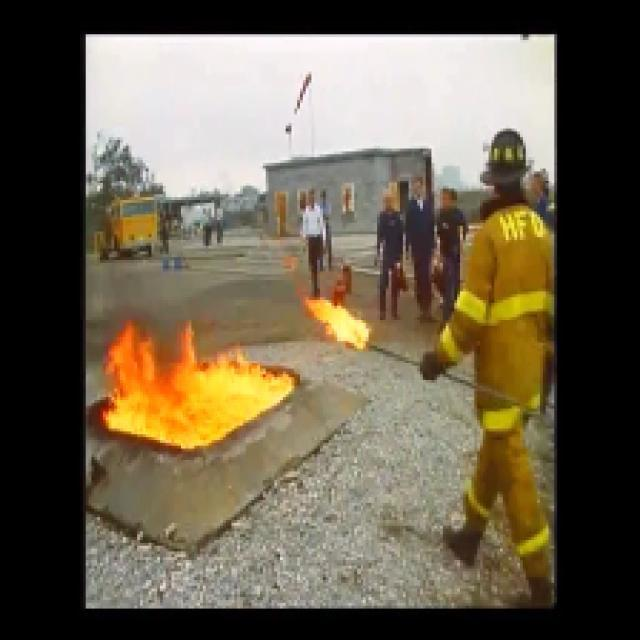Fire: (103, 318, 283, 454), (300, 281, 370, 362)
